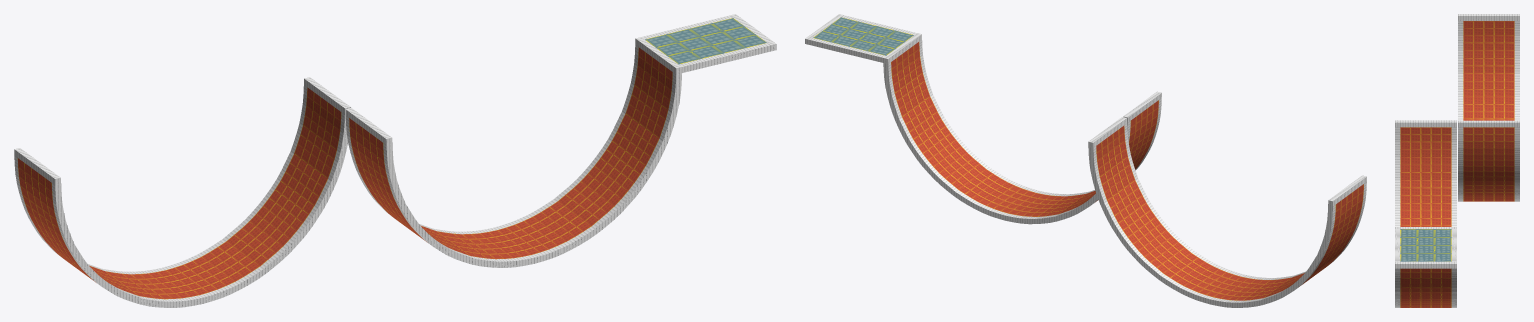
Rendered from half-pipe2.dae.
3 renders of one model, left to right at view 1: azimuth 30°, elevation 25°; view 2: azimuth 150°, elevation 25°; view 3: azimuth 270°, elevation 25°, orthographic. The views are drawn at different scales.
Visible parts, largest first — view 1: half-pipe2; view 2: half-pipe2; view 3: half-pipe2.
Part boxes in pixels (x1,y1,x2,y2): half-pipe2: (14,14,776,307); half-pipe2: (805,14,1366,307); half-pipe2: (1395,14,1519,307).
Size of the model in its own units: 57.5 by 12.12 by 13.
